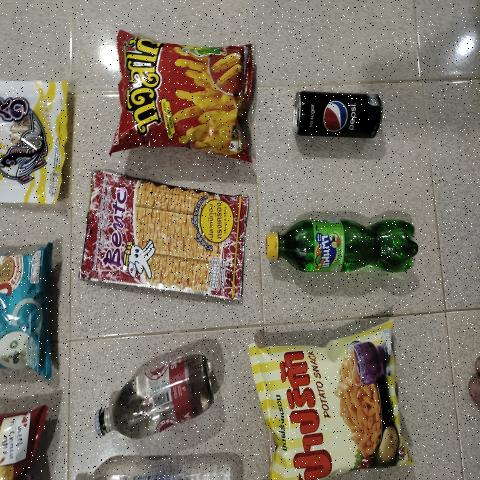bento_red: (90, 171, 242, 289)
fanta_green: (266, 215, 422, 275)
paprika: (252, 330, 408, 472)
pepsi_black: (295, 93, 381, 138)
singha_soda: (92, 354, 222, 436)
twisco: (123, 36, 250, 153)
